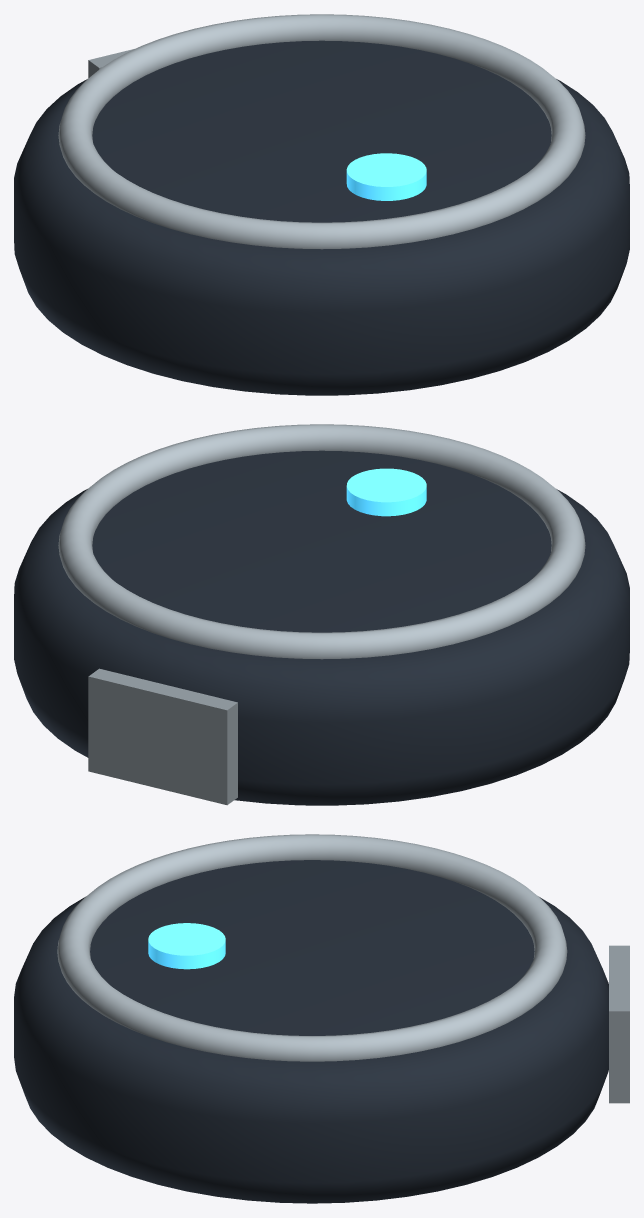
Rendered from freezon-tag.glb.
3 renders of one model, top to bottom at view 1: azimuth 30°, elevation 25°; view 2: azimuth 150°, elevation 25°; view 3: azimuth 270°, elevation 25°, orthographic. The views are drawn at different scales.
Visible parts, largest first — view 1: body, bezel, light; view 2: body, bezel, clip, light; view 3: body, bezel, clip, light.
Part boxes in pixels (bbox=[...]): body: bbox=[14, 40, 629, 395]; bezel: bbox=[58, 14, 585, 249]; light: bbox=[346, 153, 426, 200]; body: bbox=[14, 450, 629, 805]; bezel: bbox=[58, 424, 585, 659]; clip: bbox=[88, 668, 237, 805]; light: bbox=[346, 468, 426, 516]; body: bbox=[14, 860, 608, 1203]; bezel: bbox=[57, 834, 567, 1061]; clip: bbox=[609, 945, 629, 1103]; light: bbox=[148, 923, 225, 969].
Bounding box in the file's own units: 2 × 0.585 × 2.07.
